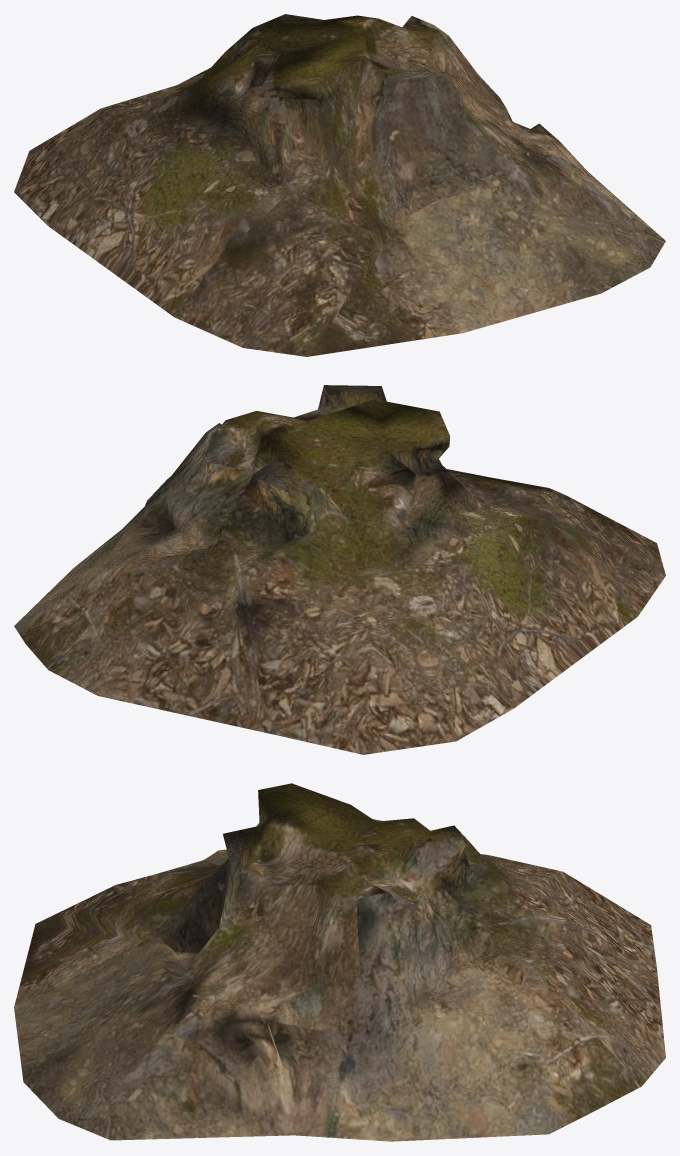
File: tree_stump_01.glb
The picture shows the model from 3 angles, top to bottom: view 1: azimuth 30°, elevation 25°; view 2: azimuth 150°, elevation 25°; view 3: azimuth 270°, elevation 25°; orthographic projection. The views are drawn at different scales.
Parts seen in each view (by area): view 1: tree_stump_01; view 2: tree_stump_01; view 3: tree_stump_01.
Boxes of the visible parts, x1=… form: tree_stump_01: x1=14, y1=14, x2=665, y2=356; tree_stump_01: x1=14, y1=385, x2=665, y2=754; tree_stump_01: x1=14, y1=783, x2=665, y2=1141.
Size of the model in its own units: 1.42 by 0.539 by 1.59.
Materials: 1 (1 with a texture image).
